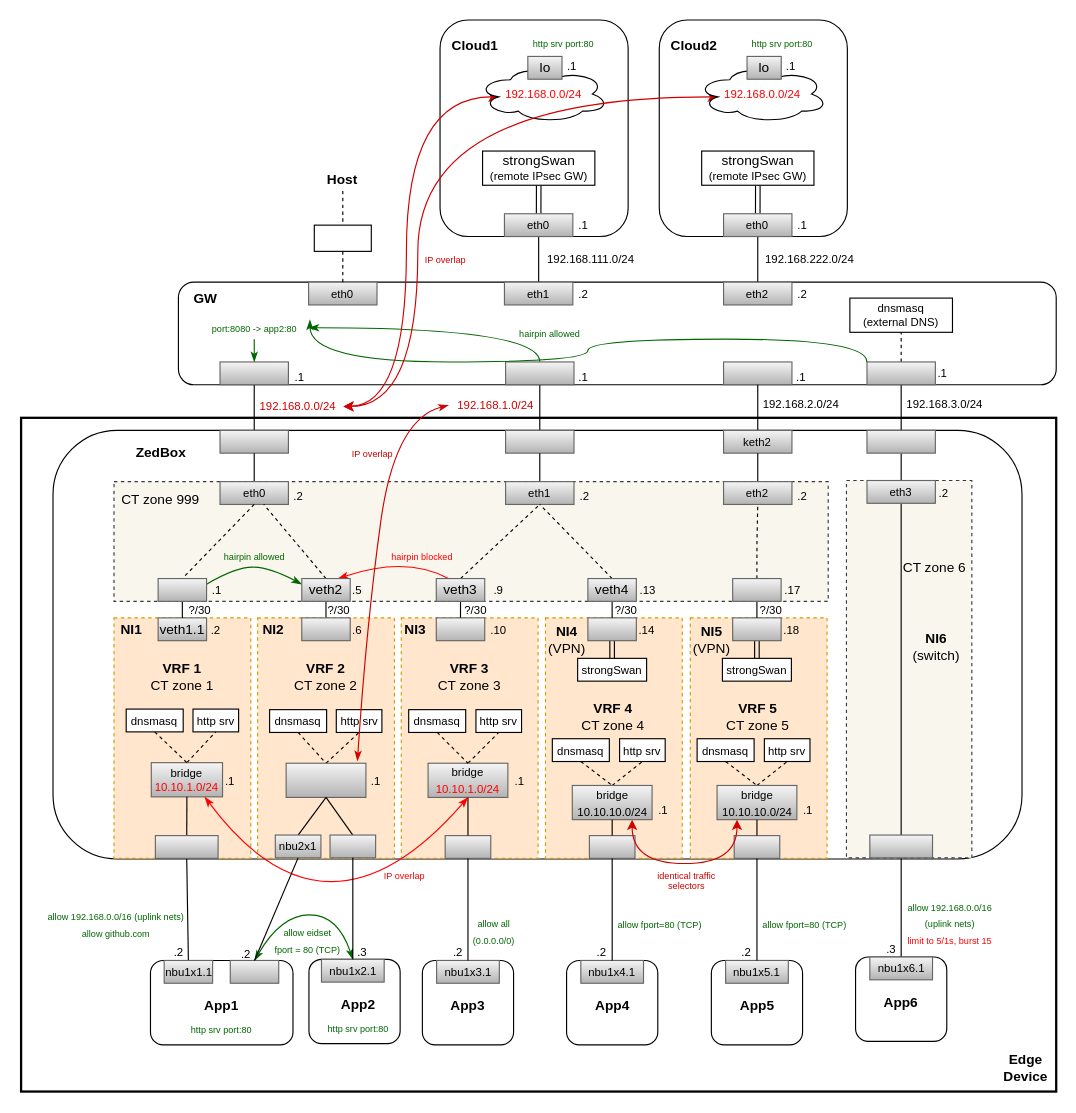
Some shapes in this 1076 by 1113 pixel diagram are drawn without their labels. The centre of each missing label's shape, as x and y in pixels:
bridge 192.168.1.0/24: the point at 325,779
gw0: the point at 253,373
gw1: the point at 539,373
gw2: the point at 757,373
gw3: the point at 900,373
keth0: the point at 253,441
keth1: the point at 539,441
keth3: the point at 900,441
NAT: the point at 342,237
nbu1x1: the point at 186,846
nbu1x2: the point at 352,846
nbu1x3: the point at 467,846
nbu1x4: the point at 611,846
nbu1x5: the point at 756,846
nbu1x6: the point at 901,846
nbu2x1 .1: the point at 254,971
veth1: the point at 182,589
veth2.1: the point at 325,629
veth3.1: the point at 460,629
veth4.1: the point at 611,629
veth5: the point at 756,589
veth5.1: the point at 756,629
